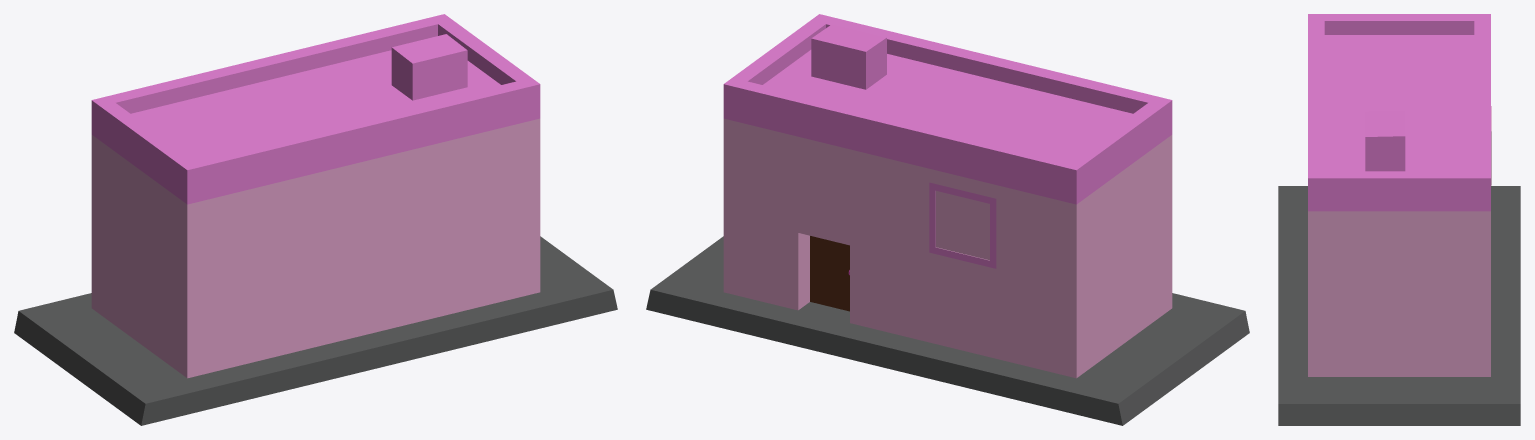
File: Building 5.fbx
3 renders of one model, left to right at view 1: azimuth 30°, elevation 25°; view 2: azimuth 150°, elevation 25°; view 3: azimuth 270°, elevation 25°, orthographic. The views are drawn at different scales.
Visible parts, largest first — view 1: Cube; view 2: Cube; view 3: Cube.
Boxes of the visible parts, box(x1,y1,x2,y2) form: Cube: box(14, 14, 617, 425); Cube: box(646, 14, 1249, 425); Cube: box(1278, 14, 1520, 425).
Size of the model in its own units: 574 by 291 by 265.
